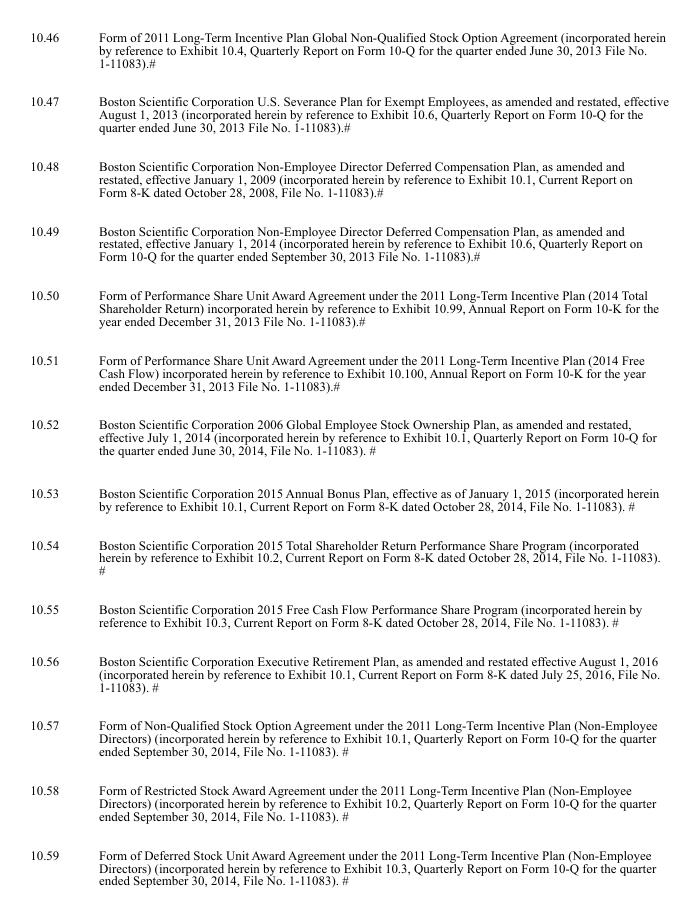table: (29, 29, 667, 887)
table column: (78, 29, 667, 887), (29, 29, 78, 887)
table row: (29, 404, 667, 471), (29, 81, 667, 146), (29, 210, 667, 275), (29, 275, 667, 340), (29, 524, 667, 589), (29, 705, 667, 770), (29, 146, 667, 210), (29, 340, 667, 404), (29, 641, 667, 705), (29, 770, 667, 834), (29, 471, 667, 524), (29, 834, 667, 887), (29, 29, 667, 81), (29, 589, 667, 641)
